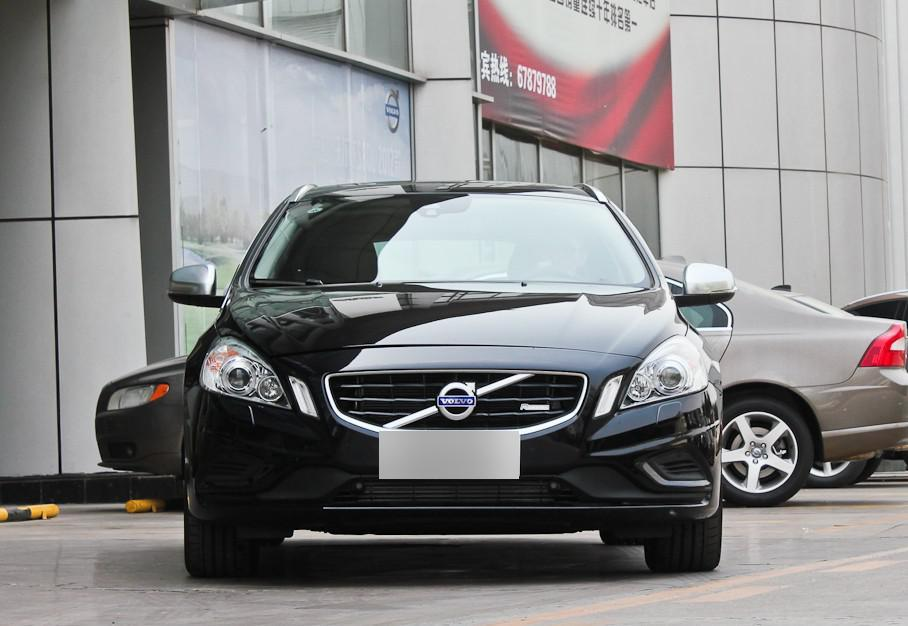Wagon: (167, 180, 737, 577)
